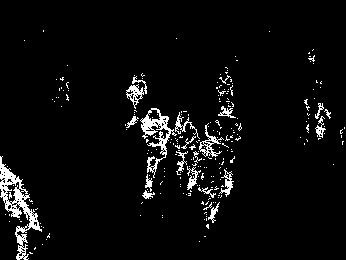person: (1, 167, 44, 257), (201, 122, 234, 225), (142, 107, 170, 199), (173, 108, 195, 199), (126, 75, 146, 126), (220, 100, 246, 132), (220, 64, 236, 96)
